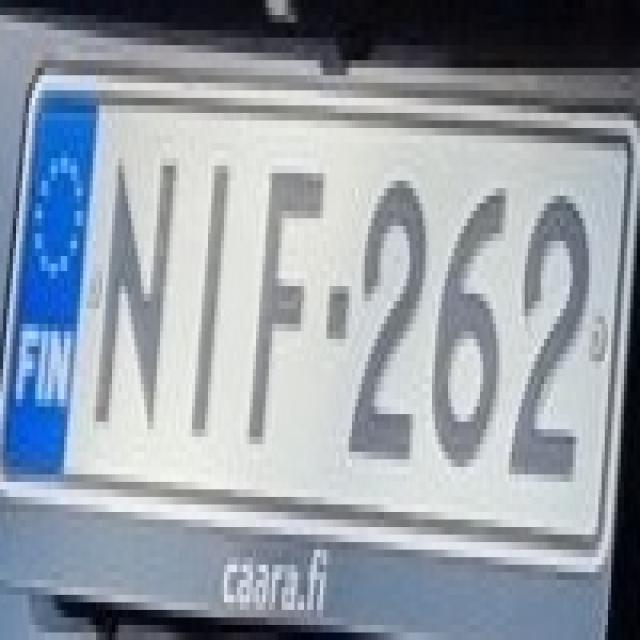1: (166, 143, 240, 429)
2: (499, 173, 602, 482), (336, 158, 438, 467)
6: (419, 166, 518, 474)
F: (234, 150, 332, 452)
N: (83, 128, 186, 429)
